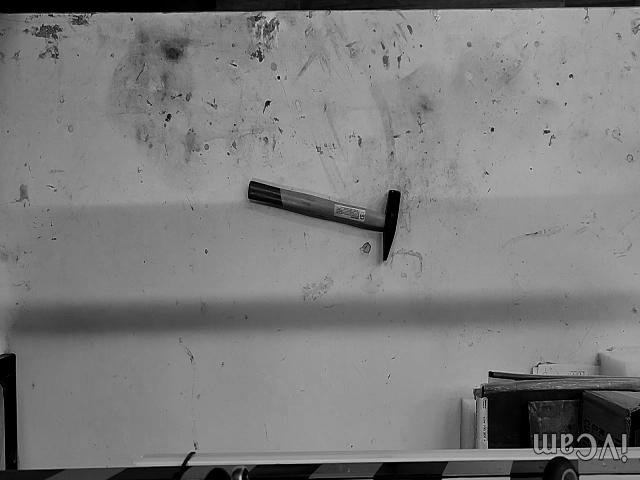Hammer: (248, 180, 400, 260)
